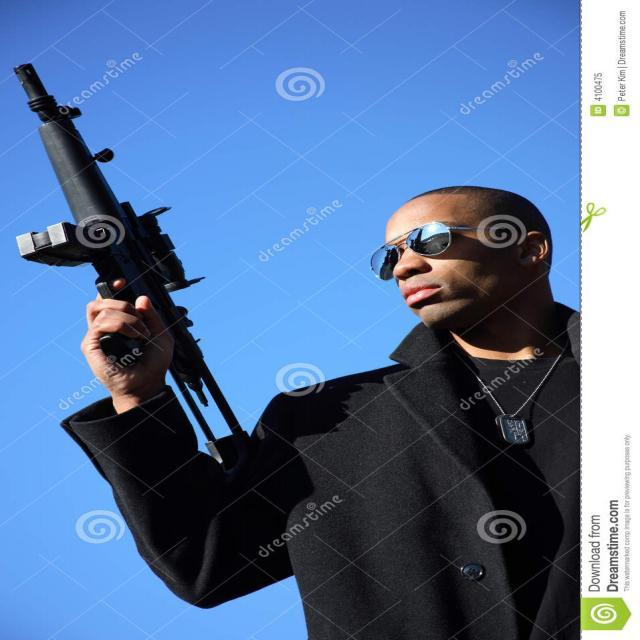weapon: (16, 51, 259, 470)
